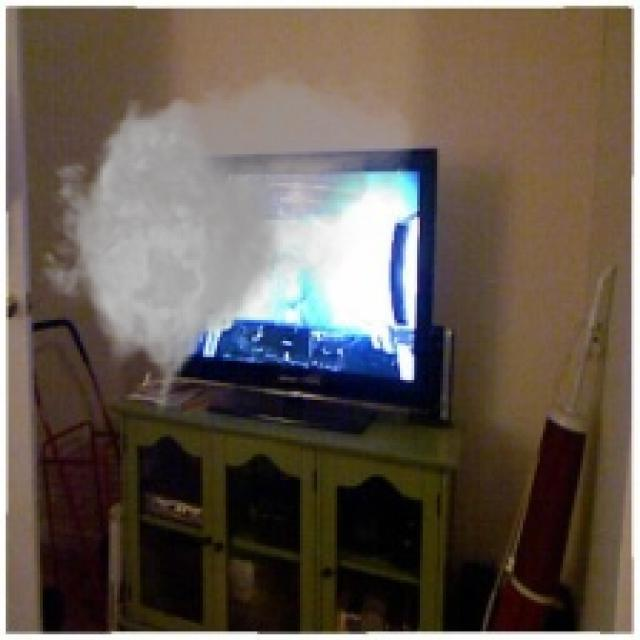Smoke: (28, 60, 420, 420)
